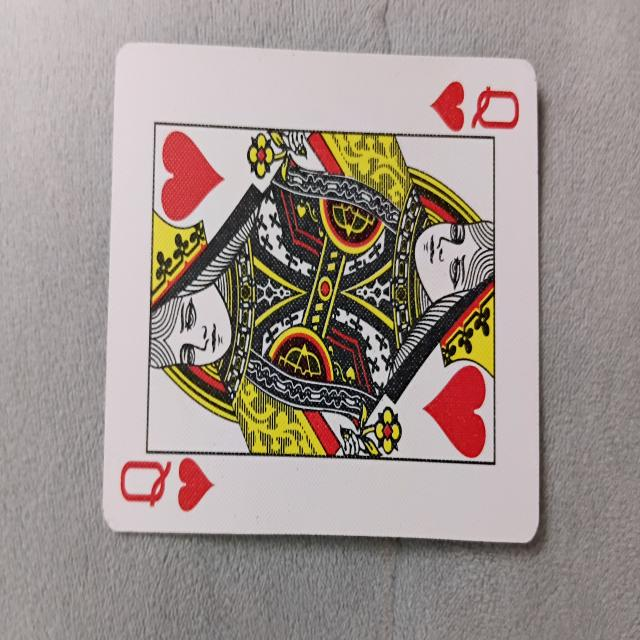QH: (104, 51, 537, 543)
